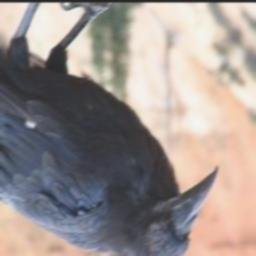Crow: (0, 4, 221, 256)
